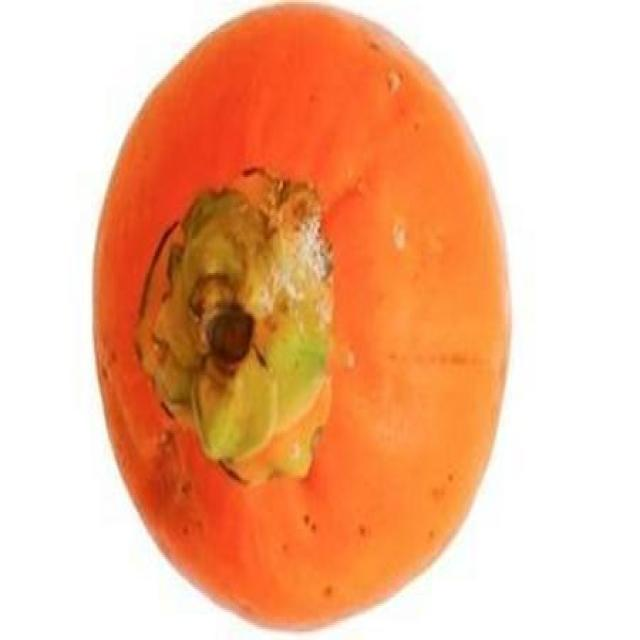good: (90, 2, 515, 636)
